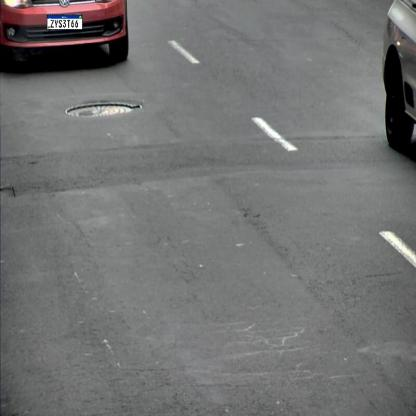PlacaM: (46, 14, 82, 30)
